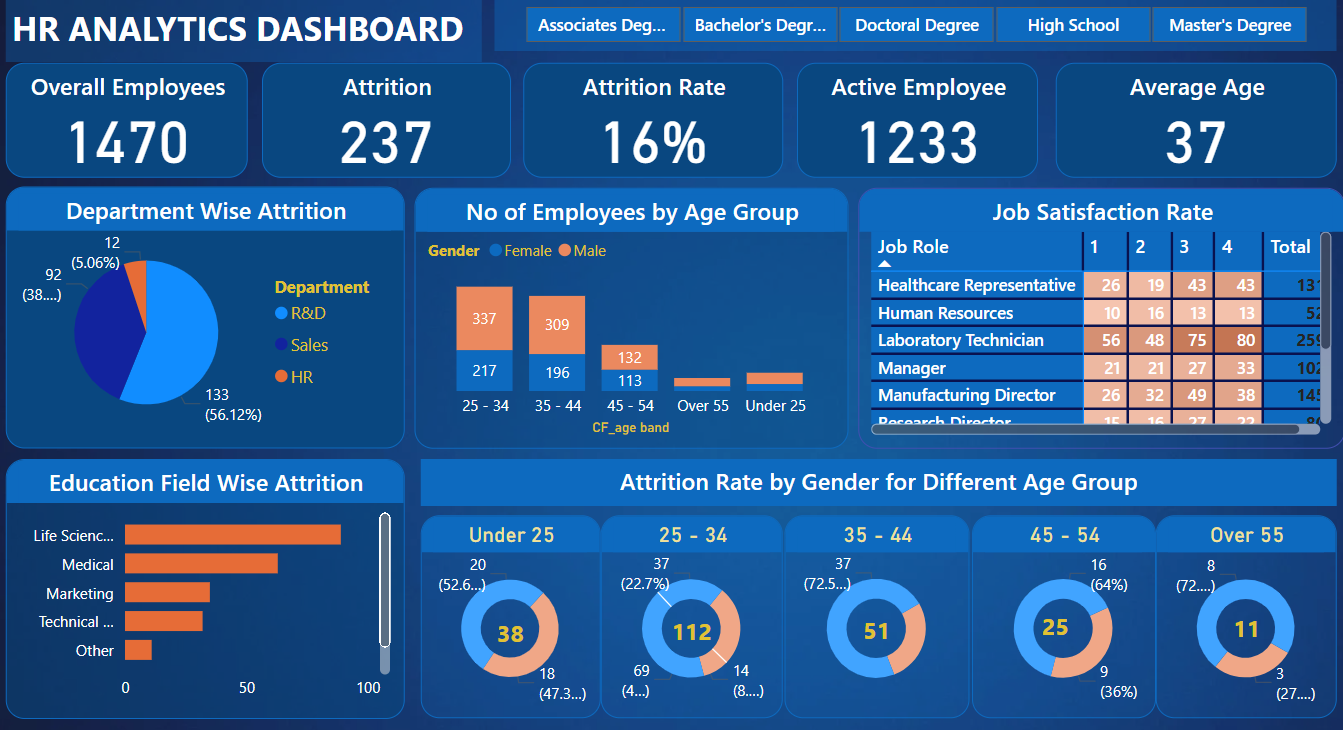

The page's visual inventory and layout, read from the dashboard file:
{"tool":"powerbi","page":{"name":"Page 1","canvas":[1280,720],"ordinal":0},"visuals":[{"type":"card","title":"Overall Employees","fields":{"Values":["Sum(HR data.Employee Count)"]},"box":[7,51,194,92],"z":0},{"type":"card","title":"Attrition","fields":{"Values":["Sum(HR data.Attrition Count)"]},"box":[212,51,199,92],"z":1000},{"type":"card","title":"Attrition Rate","fields":{"Values":["HR data.Attrition Rate"]},"box":[421,51,208,92],"z":2000},{"type":"card","title":"Active Employee","fields":{"Values":["HR data.Active employee"]},"box":[640,51,193,92],"z":3000},{"type":"card","title":"Average Age","fields":{"Values":["Avg(HR data.Age)"]},"box":[847,51,225,92],"z":4000},{"type":"pieChart","title":"Department Wise Attrition","fields":{"Category":["HR data.Department"],"Y":["Sum(HR data.Attrition Count)"]},"box":[7,150,319,210],"z":5000},{"type":"columnChart","title":"No of Employees by Age Group","fields":{"Category":["HR data.CF_age band"],"Y":["Sum(HR data.Employee Count)"],"Series":["HR data.Gender"]},"box":[334,151,347,209],"z":6000},{"type":"pivotTable","title":"Job Satisfaction Rate","fields":{"Rows":["HR data.Job Role"],"Columns":["HR data.Job Satisfaction"],"Values":["Sum(HR data.Employee Count)"]},"box":[689,151,390,209],"z":7000},{"type":"barChart","title":"Education Field Wise Attrition","fields":{"Category":["HR data.Education Field"],"Y":["Sum(HR data.Attrition Count)"]},"box":[7,368,319,208],"z":8000},{"type":"donutChart","title":"Under 25","fields":{"Category":["HR data.Gender"],"Y":["Sum(HR data.Attrition Count)"],"Series":["HR data.CF_age band"]},"box":[339,413,144,163],"z":9000},{"type":"textbox","box":[339,368,733,38],"z":10000},{"type":"donutChart","title":"25 - 34","fields":{"Category":["HR data.Gender"],"Y":["Sum(HR data.Attrition Count)"],"Series":["HR data.CF_age band"]},"box":[483,413,146,163],"z":11000},{"type":"donutChart","title":"35 - 44","fields":{"Category":["HR data.Gender"],"Y":["Sum(HR data.Attrition Count)"],"Series":["HR data.CF_age band"]},"box":[630,413,148,163],"z":12000},{"type":"donutChart","title":"45 - 54","fields":{"Category":["HR data.Gender"],"Y":["Sum(HR data.Attrition Count)"],"Series":["HR data.CF_age band"]},"box":[780,413,147,163],"z":13000},{"type":"donutChart","title":"Over 55","fields":{"Category":["HR data.Gender"],"Y":["Sum(HR data.Attrition Count)"],"Series":["HR data.CF_age band"]},"box":[927,413,145,163],"z":14000},{"type":"card","fields":{"Values":["Sum(HR data.Attrition Count)"]},"box":[388,495,46,26],"z":15000},{"type":"card","fields":{"Values":["Sum(HR data.Attrition Count)"]},"box":[533,490,46,36],"z":16000},{"type":"card","fields":{"Values":["Sum(HR data.Attrition Count)"]},"box":[681,493,46,28],"z":17000},{"type":"card","fields":{"Values":["Sum(HR data.Attrition Count)"]},"box":[824,490,46,28],"z":18000},{"type":"card","fields":{"Values":["Sum(HR data.Attrition Count)"]},"box":[977,485,46,41],"z":19000},{"type":"textbox","box":[7,0,381,51],"z":20000},{"type":"slicer","fields":{"Values":["HR data.Education"]},"box":[398,0,674,42],"z":21000}]}

Visuals, with their boxes on the page's 1280x720 design canvas (x1, y1, x2, y2). These are canvas units, not pixel positions in the 1343x730 screenshot, which may show the page scaled, cropped or inside an application window:
"Overall Employees" card: bbox(7, 51, 201, 143)
"Attrition" card: bbox(212, 51, 411, 143)
"Attrition Rate" card: bbox(421, 51, 629, 143)
"Active Employee" card: bbox(640, 51, 833, 143)
"Average Age" card: bbox(847, 51, 1072, 143)
"Department Wise Attrition" pieChart: bbox(7, 150, 326, 360)
"No of Employees by Age Group" columnChart: bbox(334, 151, 681, 360)
"Job Satisfaction Rate" pivotTable: bbox(689, 151, 1079, 360)
"Education Field Wise Attrition" barChart: bbox(7, 368, 326, 576)
"Under 25" donutChart: bbox(339, 413, 483, 576)
textbox: bbox(339, 368, 1072, 406)
"25 - 34" donutChart: bbox(483, 413, 629, 576)
"35 - 44" donutChart: bbox(630, 413, 778, 576)
"45 - 54" donutChart: bbox(780, 413, 927, 576)
"Over 55" donutChart: bbox(927, 413, 1072, 576)
card - Sum(HR data.Attrition Count): bbox(388, 495, 434, 521)
card - Sum(HR data.Attrition Count): bbox(533, 490, 579, 526)
card - Sum(HR data.Attrition Count): bbox(681, 493, 727, 521)
card - Sum(HR data.Attrition Count): bbox(824, 490, 870, 518)
card - Sum(HR data.Attrition Count): bbox(977, 485, 1023, 526)
textbox: bbox(7, 0, 388, 51)
slicer - HR data.Education: bbox(398, 0, 1072, 42)
